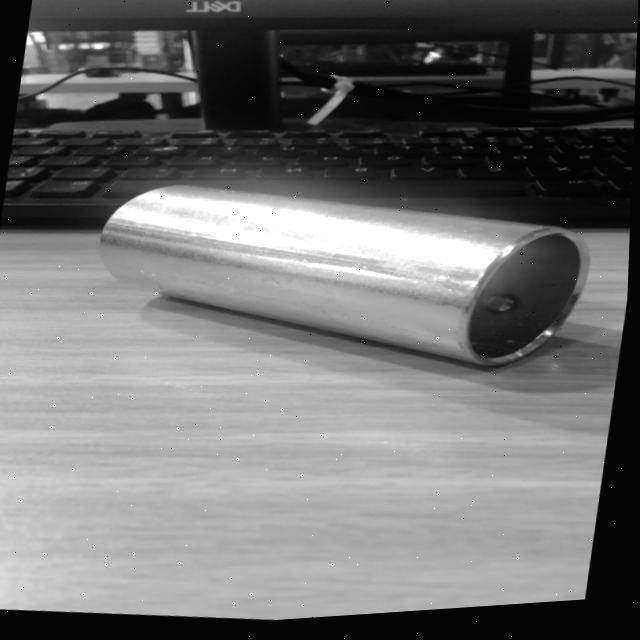Co_Lon: (91, 176, 592, 376)
